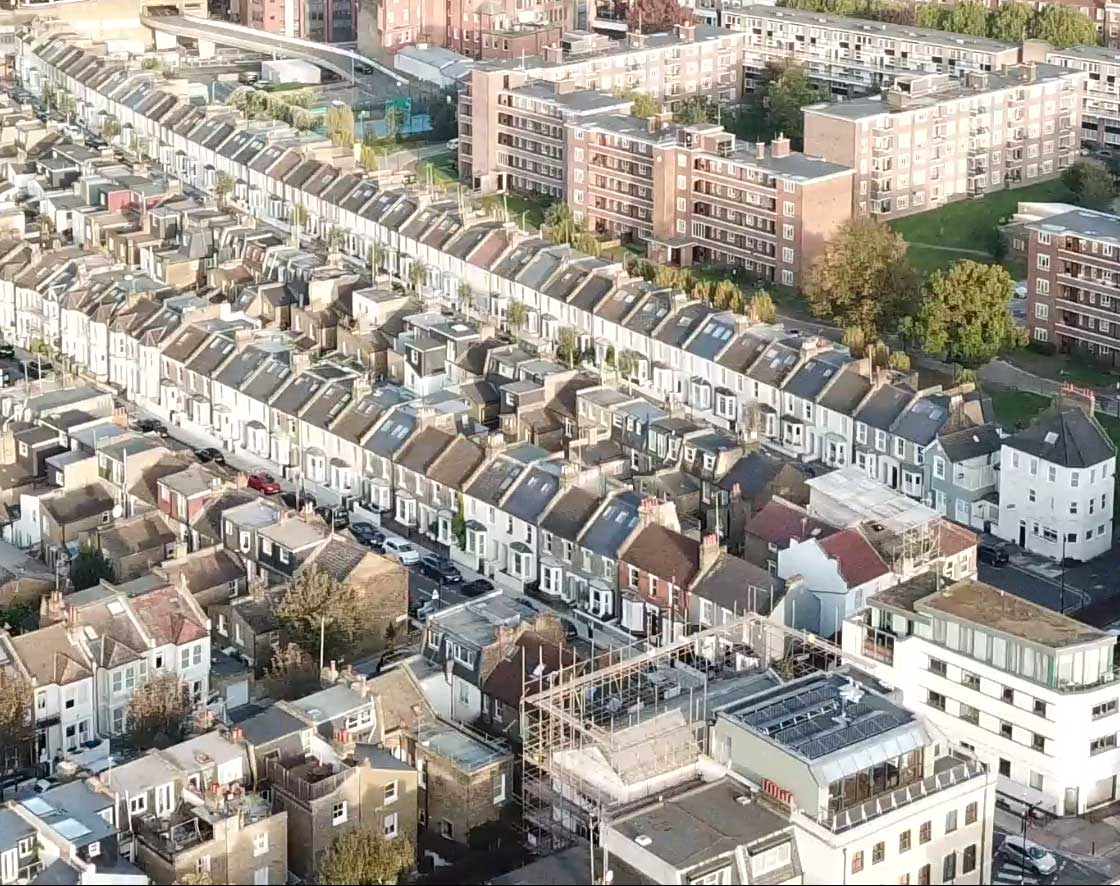building: (454, 70, 863, 316), (246, 706, 437, 867), (42, 573, 230, 734), (220, 355, 363, 469), (68, 279, 182, 408), (297, 171, 390, 251)
tree: (919, 245, 1032, 365), (806, 212, 915, 325)
